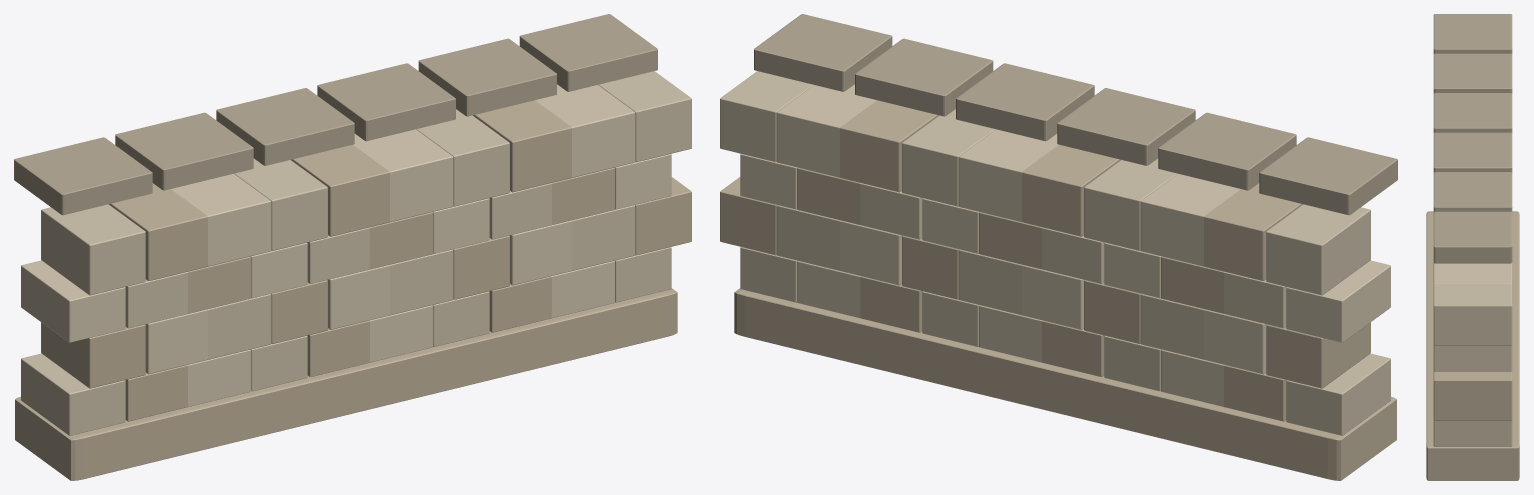
The model's file is stone_wall.glb.
3 renders of one model, left to right at view 1: azimuth 30°, elevation 25°; view 2: azimuth 150°, elevation 25°; view 3: azimuth 270°, elevation 25°, orthographic. The views are drawn at different scales.
Parts seen in each view (by area): view 1: stone_wall; view 2: stone_wall; view 3: stone_wall.
Part boxes in pixels (x1,y1,x2,y2): stone_wall: [14, 14, 691, 480]; stone_wall: [720, 14, 1397, 480]; stone_wall: [1426, 14, 1519, 480].
Bounding box in the file's own units: 3.11 × 1.35 × 0.5.
